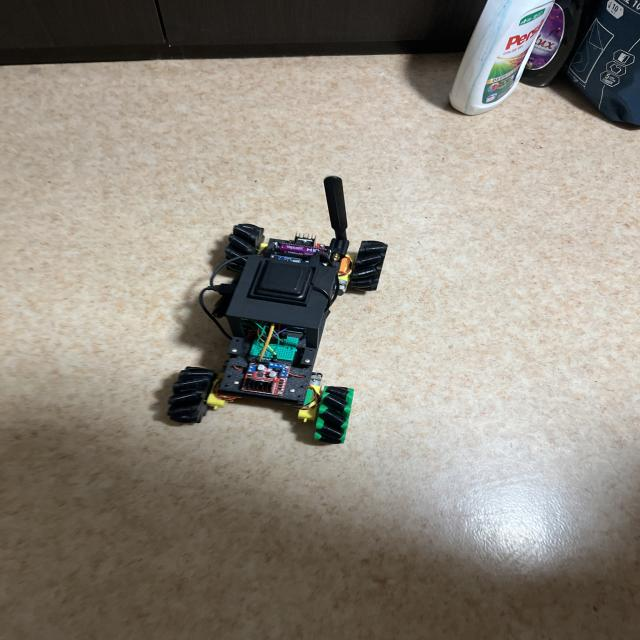robot: (168, 176, 387, 443)
